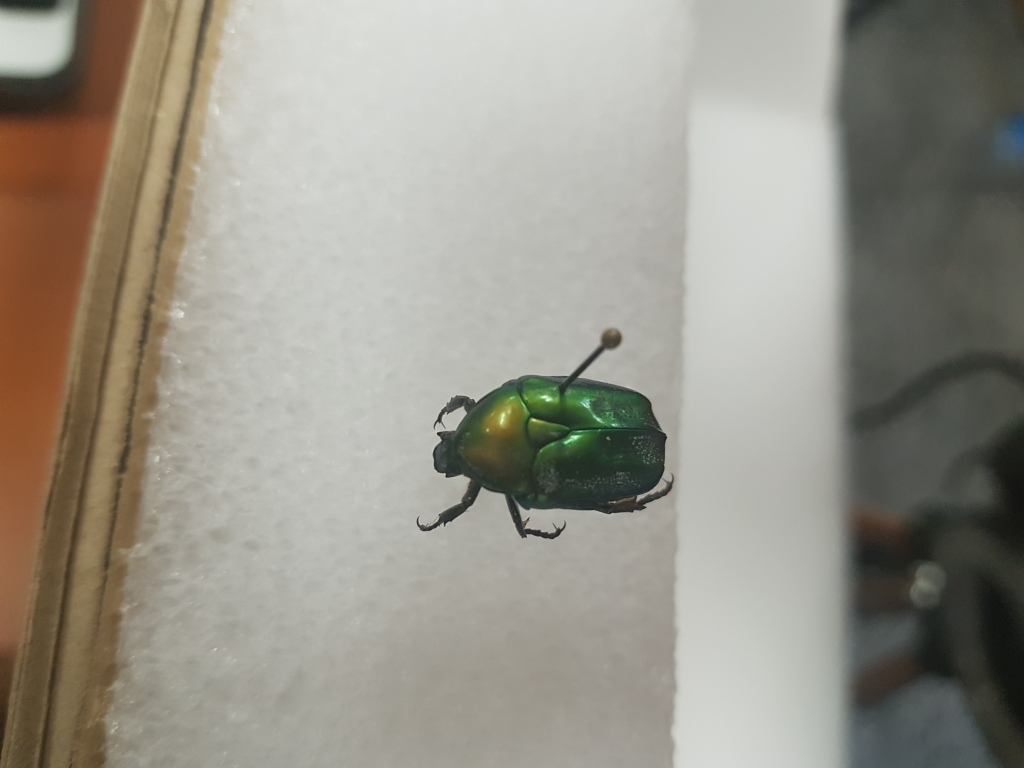Protaetia_cuprea_ignicollis: (412, 368, 700, 546)
